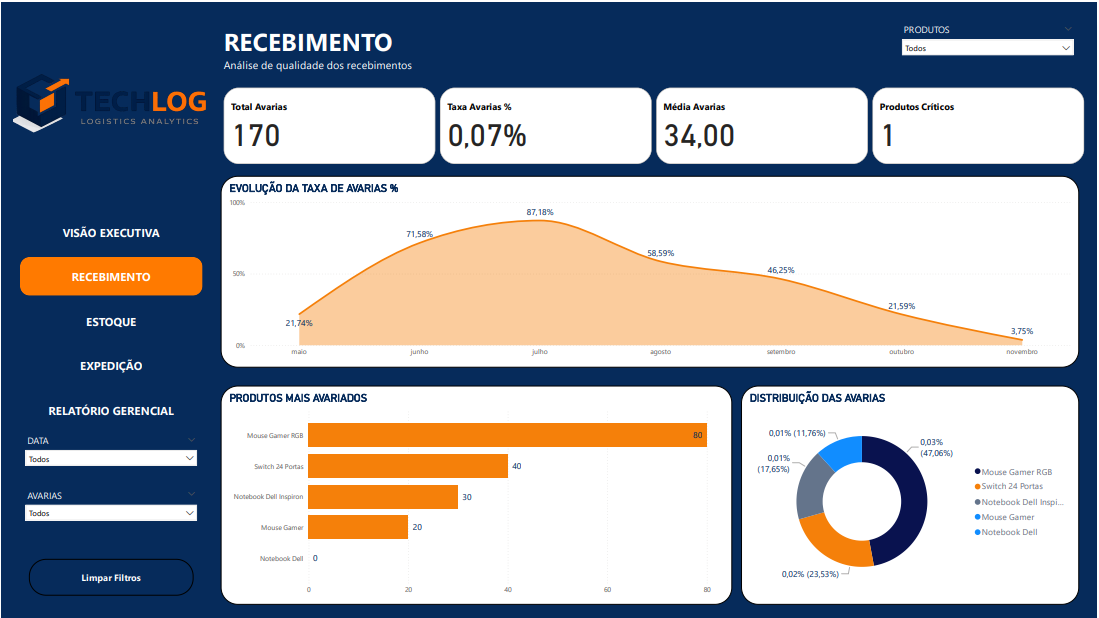

What the dashboard file says about the page in this screenshot:
{"tool":"powerbi","page":{"name":"RECEBIMENTO","canvas":[1920,1080],"ordinal":1},"visuals":[{"type":"textbox","box":[384,32,720,96],"z":0},{"type":"cardVisual","fields":{"Data":["Medidas.Total Avarias","Medidas.Taxa Avarias %","Medidas.Média Avarias","Medidas.Produtos Críticos"]},"box":[384,144,1520,144],"z":1000},{"type":"barChart","title":"PRODUTOS MAIS AVARIADOS","fields":{"Category":["avarias_tratado.nome_produto"],"Y":["Medidas.Total Avarias"]},"box":[384,672,896,384],"z":2000},{"type":"lineChart","title":"EVOLUÇÃO DA TAXA DE AVARIAS %","fields":{"Y":["Medidas.Taxa Atraso %"],"Category":["expedicoes_tratado.data_saida.Variation.Hierarquia de datas.Mês"]},"box":[384,304,1504,336],"z":4000},{"type":"pageNavigator","box":[32,368,320,384],"z":5000},{"type":"image","box":[16,16,352,352],"z":6000},{"type":"donutChart","title":"DISTRIBUIÇÃO DAS AVARIAS","fields":{"Category":["avarias_tratado.nome_produto"],"Y":["Medidas.Taxa Avarias %"]},"box":[1296,672,592,384],"z":7000},{"type":"actionButton","box":[48,976,288,64],"z":8000},{"type":"slicer","fields":{"Values":["avarias_tratado.nome_produto"]},"box":[1568,32,320,96],"z":9000},{"type":"slicer","fields":{"Values":["expedicoes_tratado.data_entrega"]},"box":[32,752,320,96],"z":10000},{"type":"slicer","fields":{"Values":["avarias_tratado.total_avarias"]},"box":[32,848,320,96],"z":11000}]}

Visuals, with their boxes in screenshot pixels (x1, y1, x2, y2), scaled from the page's 1920x1080 canvas onto the 1099x618 screenshot:
textbox: 220/18/632/73
cardVisual - Medidas.Total Avarias x Medidas.Taxa Avarias %: 220/82/1090/165
"PRODUTOS MAIS AVARIADOS" barChart: 220/385/733/604
"EVOLUÇÃO DA TAXA DE AVARIAS %" lineChart: 220/174/1081/366
pageNavigator: 18/211/201/430
image: 9/9/211/211
"DISTRIBUIÇÃO DAS AVARIAS" donutChart: 742/385/1081/604
actionButton: 27/558/192/595
slicer - avarias_tratado.nome_produto: 898/18/1081/73
slicer - expedicoes_tratado.data_entrega: 18/430/201/485
slicer - avarias_tratado.total_avarias: 18/485/201/540
